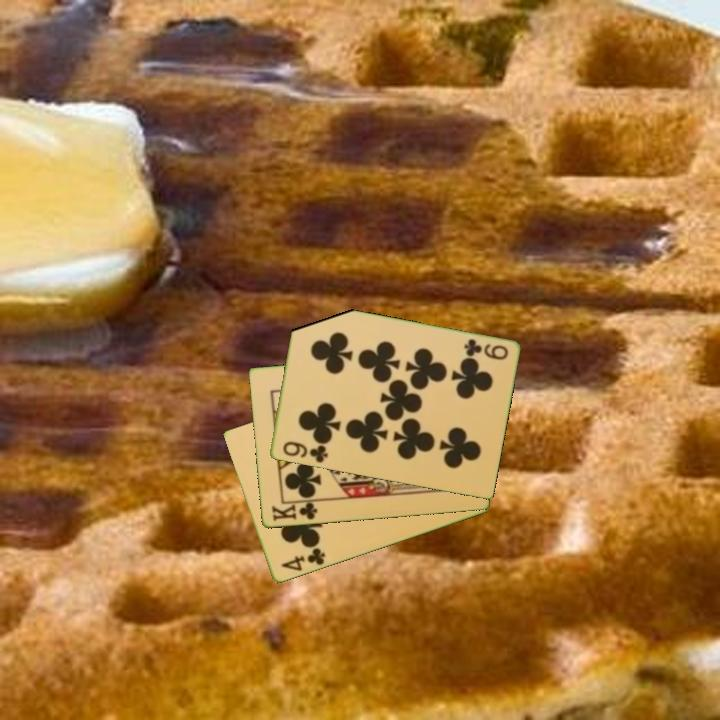4c: (277, 544, 328, 574)
9c: (279, 438, 331, 466), (460, 335, 511, 363)
Kc: (268, 498, 322, 525)
